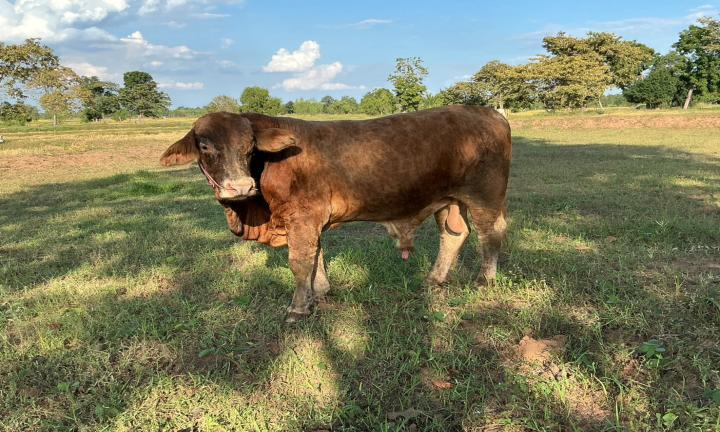Charolais: (160, 106, 511, 320)
